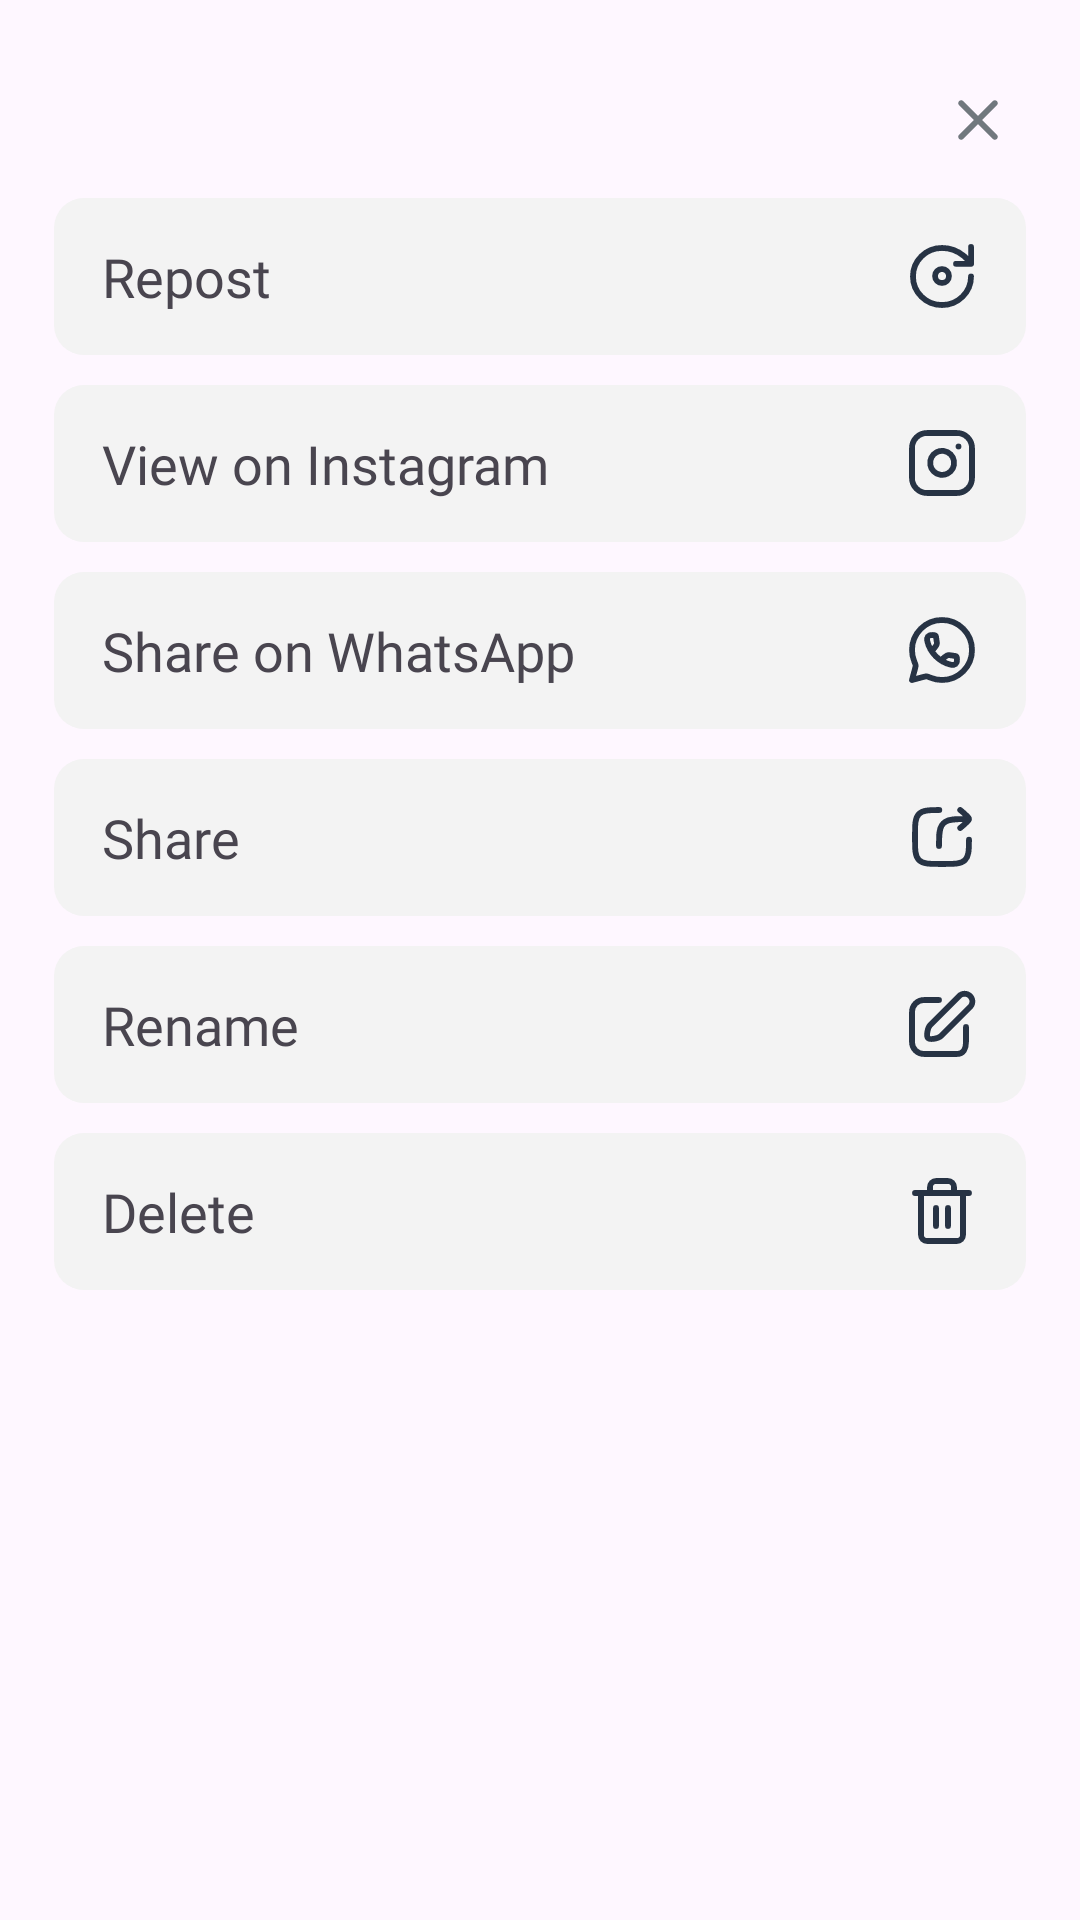

Locate icon controls on the screen. Image size 1080w x 1920h, boxes as (x1, y1, x2, y2).
close: (958, 100, 998, 140)
